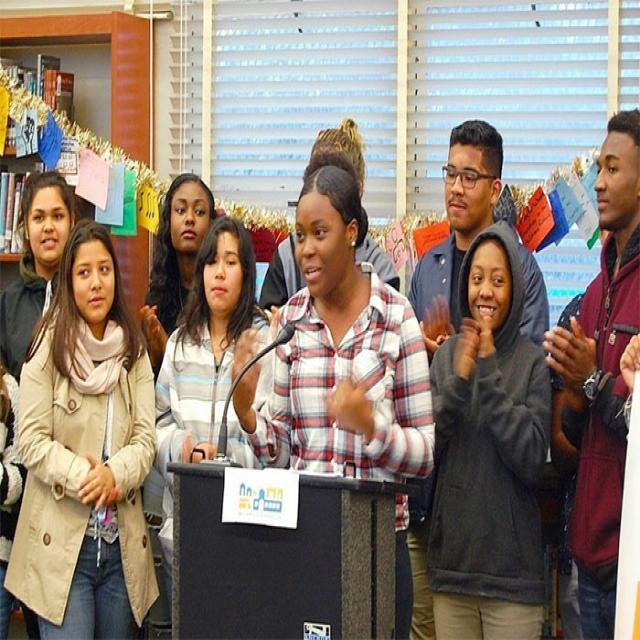body: (228, 150, 437, 638), (411, 116, 553, 638), (1, 213, 166, 639), (144, 212, 284, 638), (418, 216, 558, 638), (541, 106, 640, 640), (260, 114, 401, 316), (139, 169, 218, 378), (0, 168, 78, 378), (0, 340, 29, 640), (546, 458, 580, 638), (617, 331, 638, 396), (555, 287, 584, 334)
